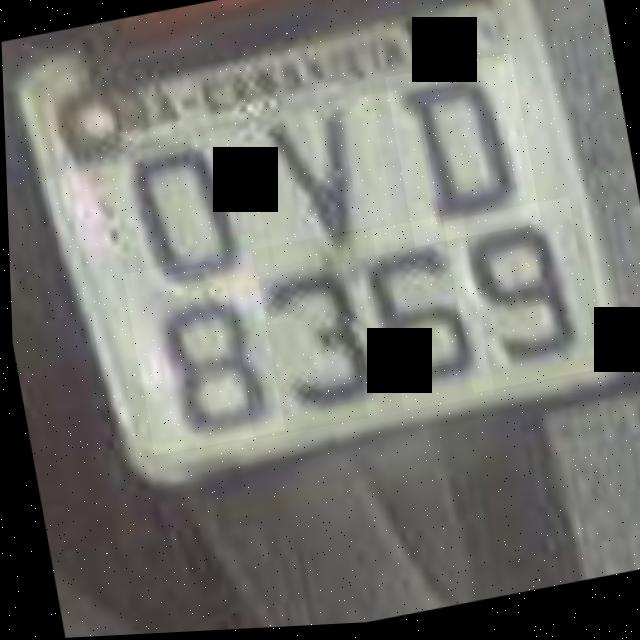3: (219, 230, 402, 444)
6: (334, 216, 492, 423)
8: (120, 251, 282, 458)
9: (441, 202, 597, 399)
O: (104, 111, 270, 299), (384, 58, 540, 252)
V: (246, 84, 398, 278)
